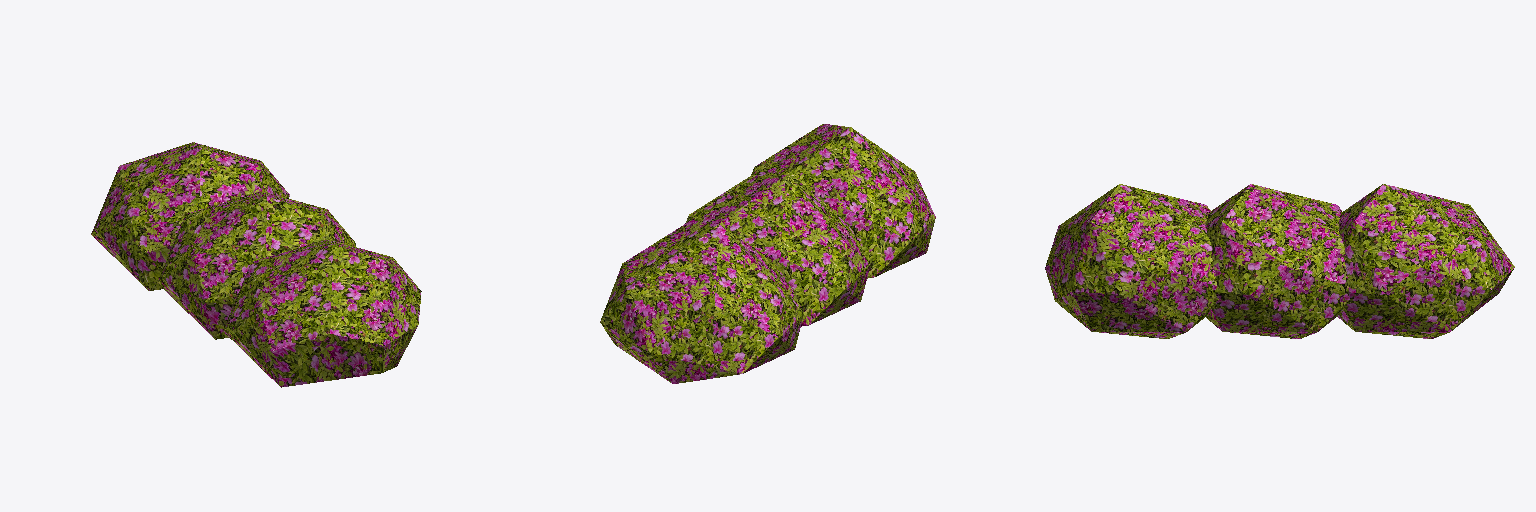
The picture shows the model from 3 angles: view 1: azimuth 30°, elevation 25°; view 2: azimuth 150°, elevation 25°; view 3: azimuth 270°, elevation 25°; orthographic projection.
Parts seen in each view (by area): view 1: Bush03.003_Icosphere.004; view 2: Bush03.003_Icosphere.004; view 3: Bush03.003_Icosphere.004.
Boxes of the visible parts, x1,y1,x2,y2 form: Bush03.003_Icosphere.004: [91, 142, 421, 387]; Bush03.003_Icosphere.004: [600, 124, 935, 383]; Bush03.003_Icosphere.004: [1045, 184, 1514, 338].
Bounding box in the file's own units: 1.11 × 0.8774 × 2.65.
Materials: 1 (1 with a texture image).